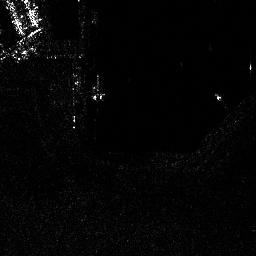ship: (92, 72, 105, 103)
